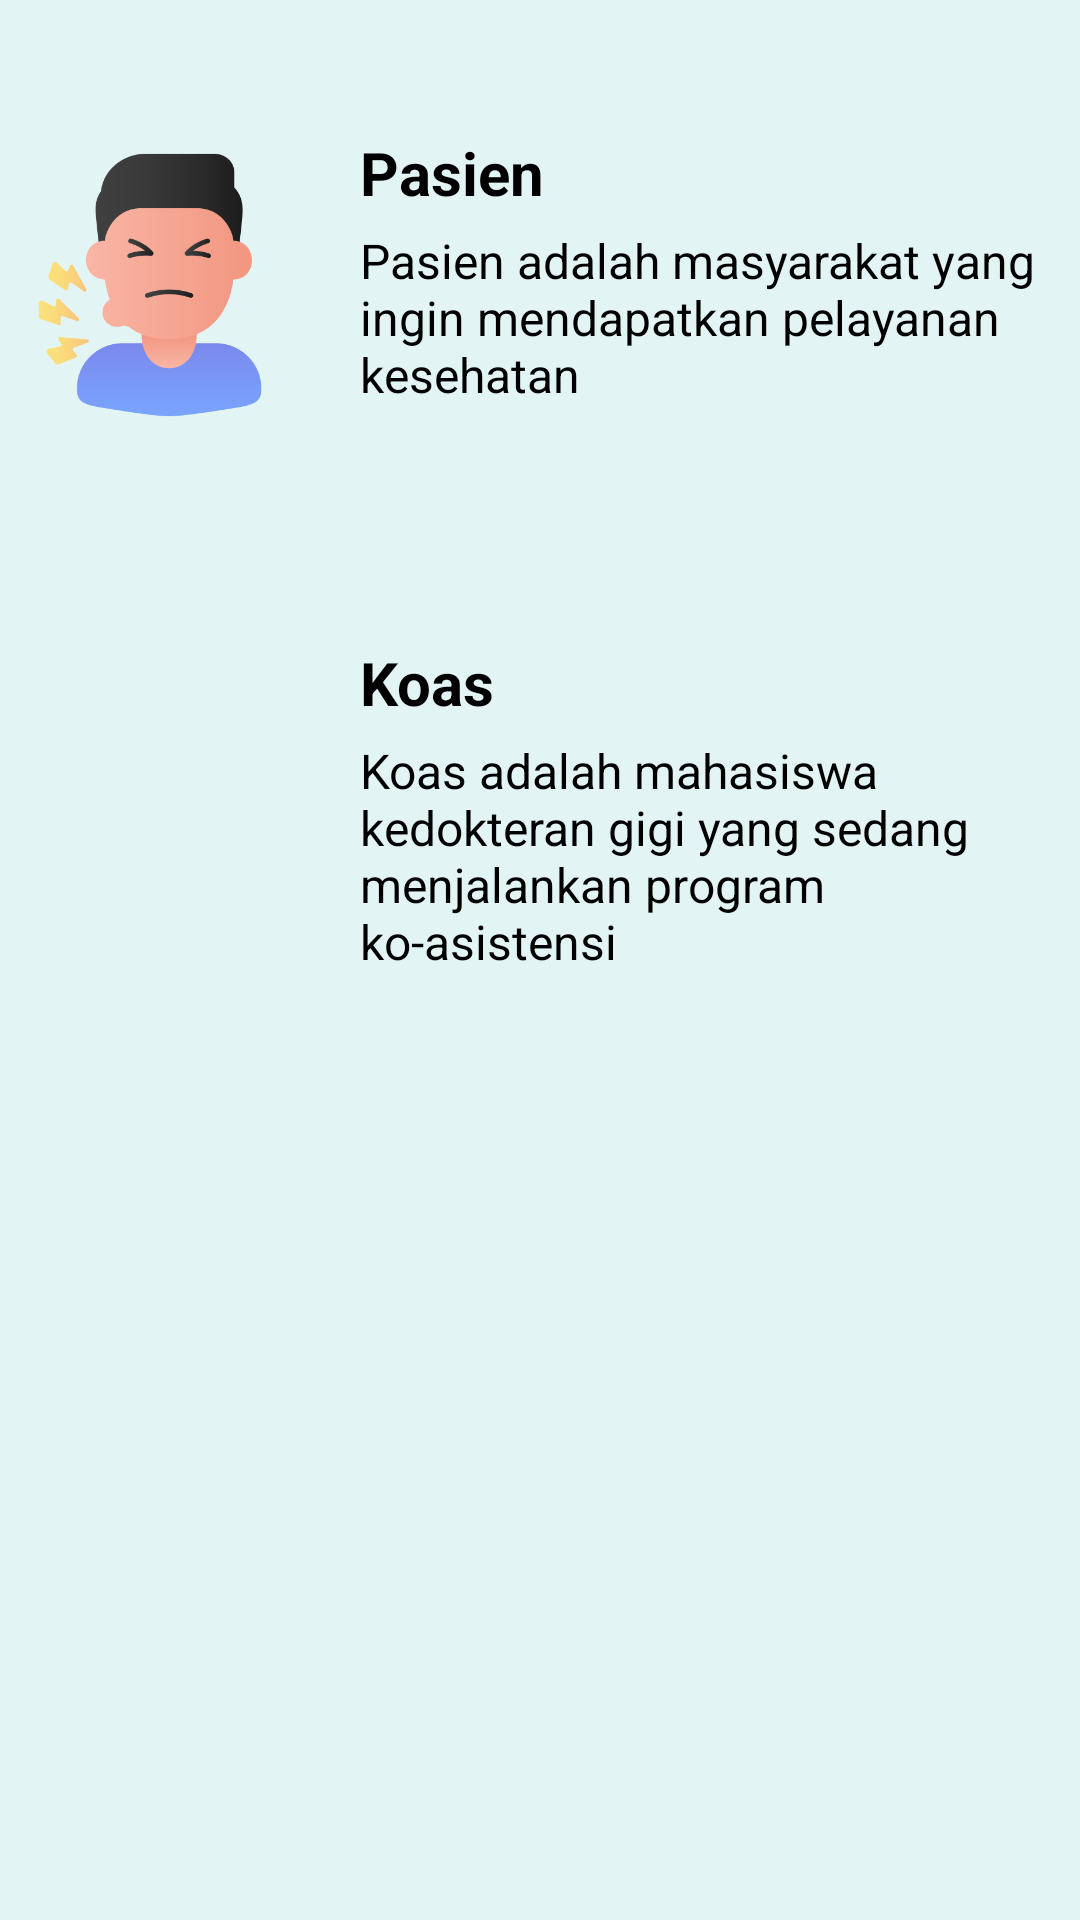

Icons on this 1080px x 1920px Android screen, each with its box as {"left": x1, "top": y1, "right": x2, "bottom": y2}:
pain: {"left": 39, "top": 154, "right": 261, "bottom": 416}
